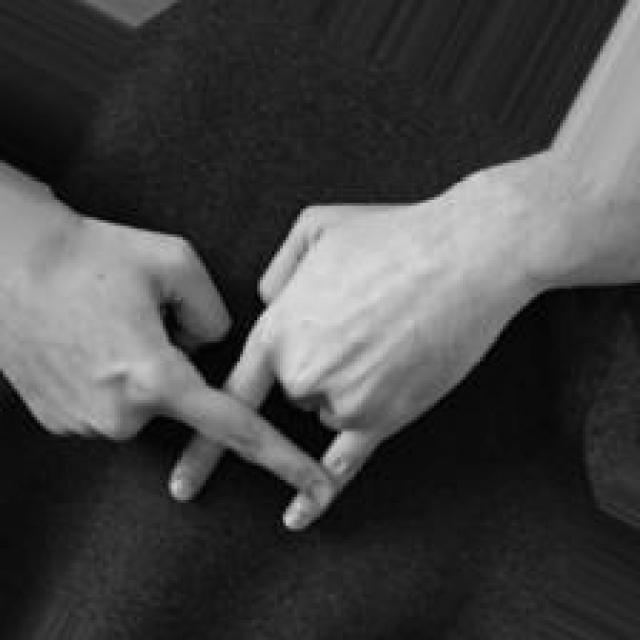H: (0, 151, 525, 535)
